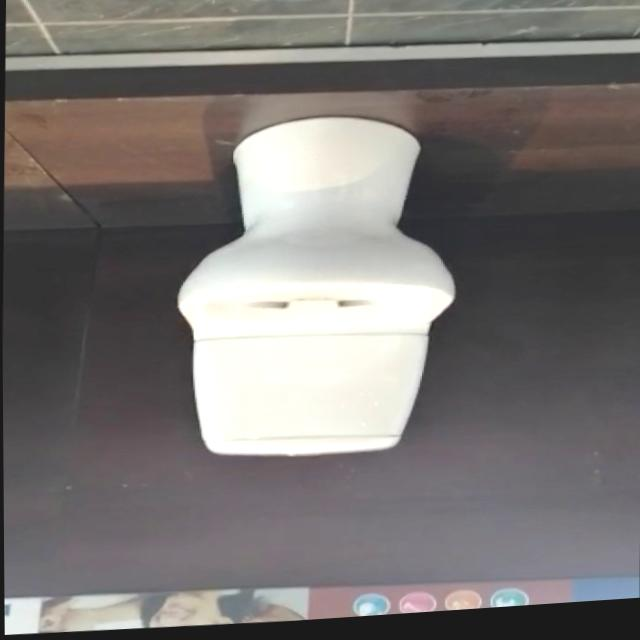toilet: (170, 112, 458, 471)
